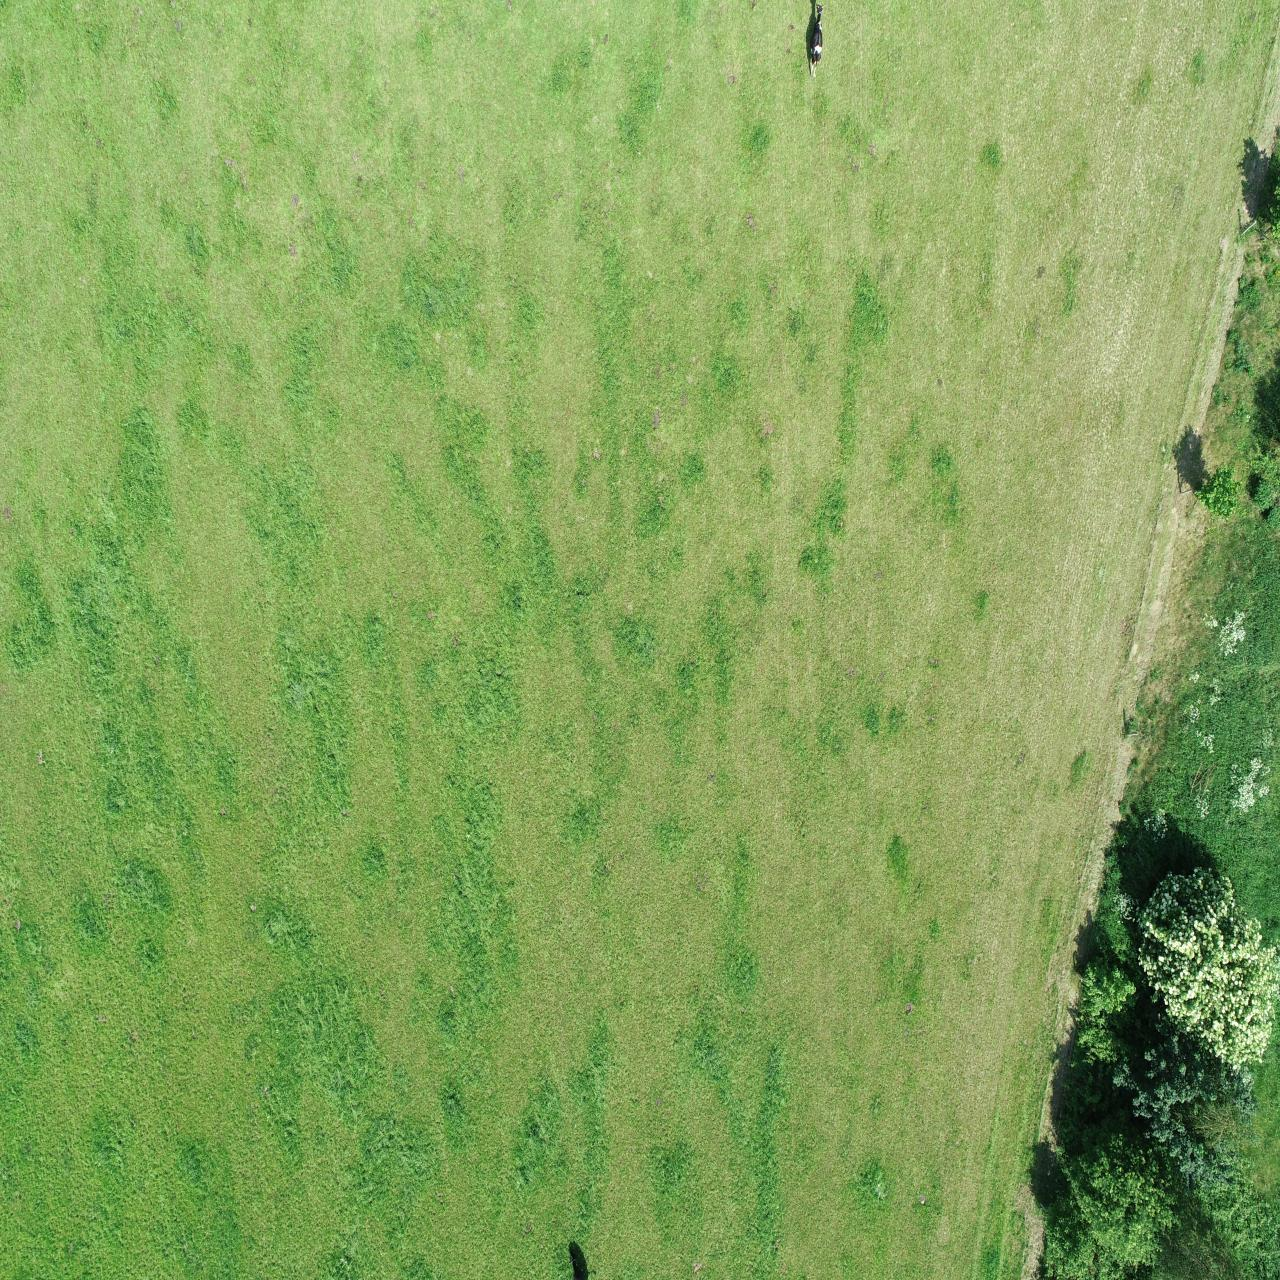cow: (808, 4, 829, 79)
